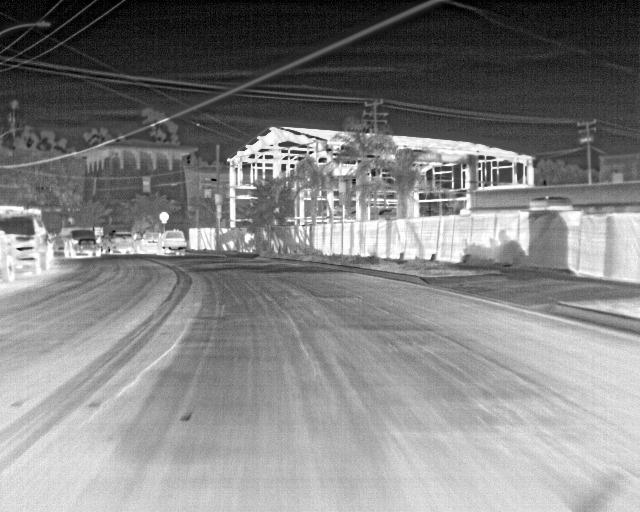car: (0, 214, 56, 274), (0, 227, 24, 281), (60, 226, 94, 256), (110, 228, 137, 254), (161, 229, 187, 254), (76, 238, 103, 256), (142, 238, 159, 253)
